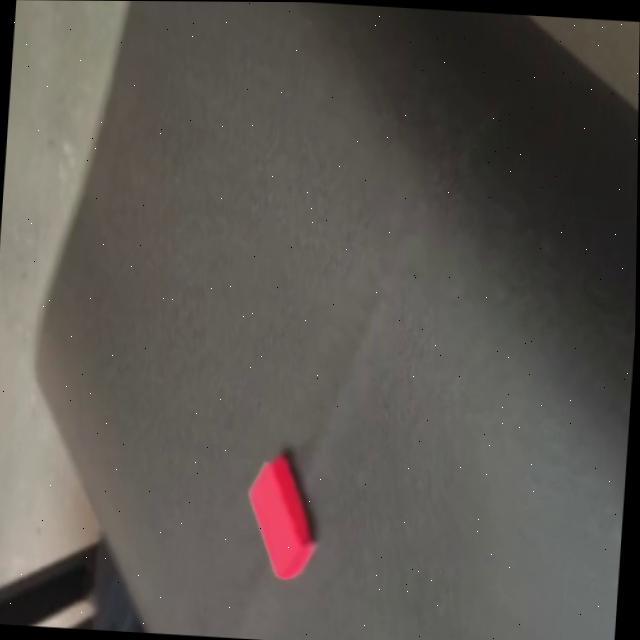red block: (241, 448, 324, 581)
